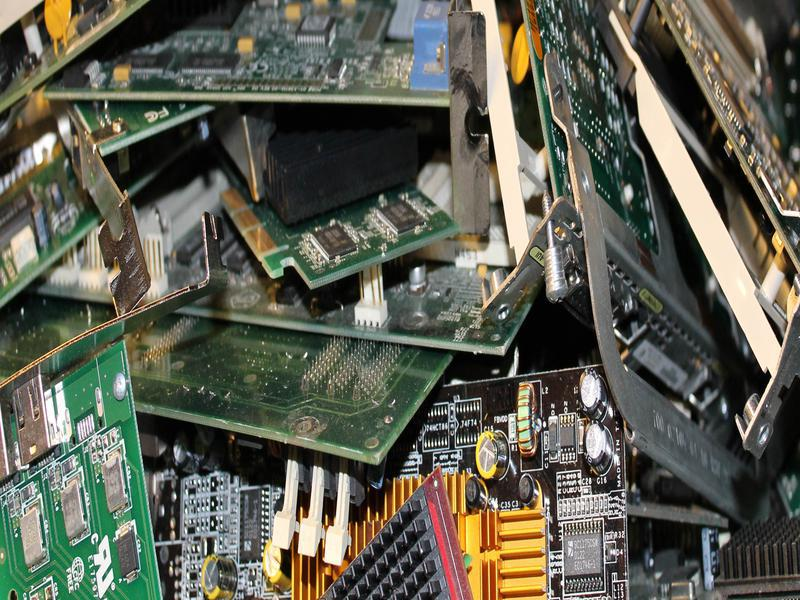circuit_board: (507, 2, 791, 521), (160, 369, 639, 600), (24, 296, 458, 464), (2, 336, 167, 600), (652, 1, 800, 274), (195, 182, 461, 289)
